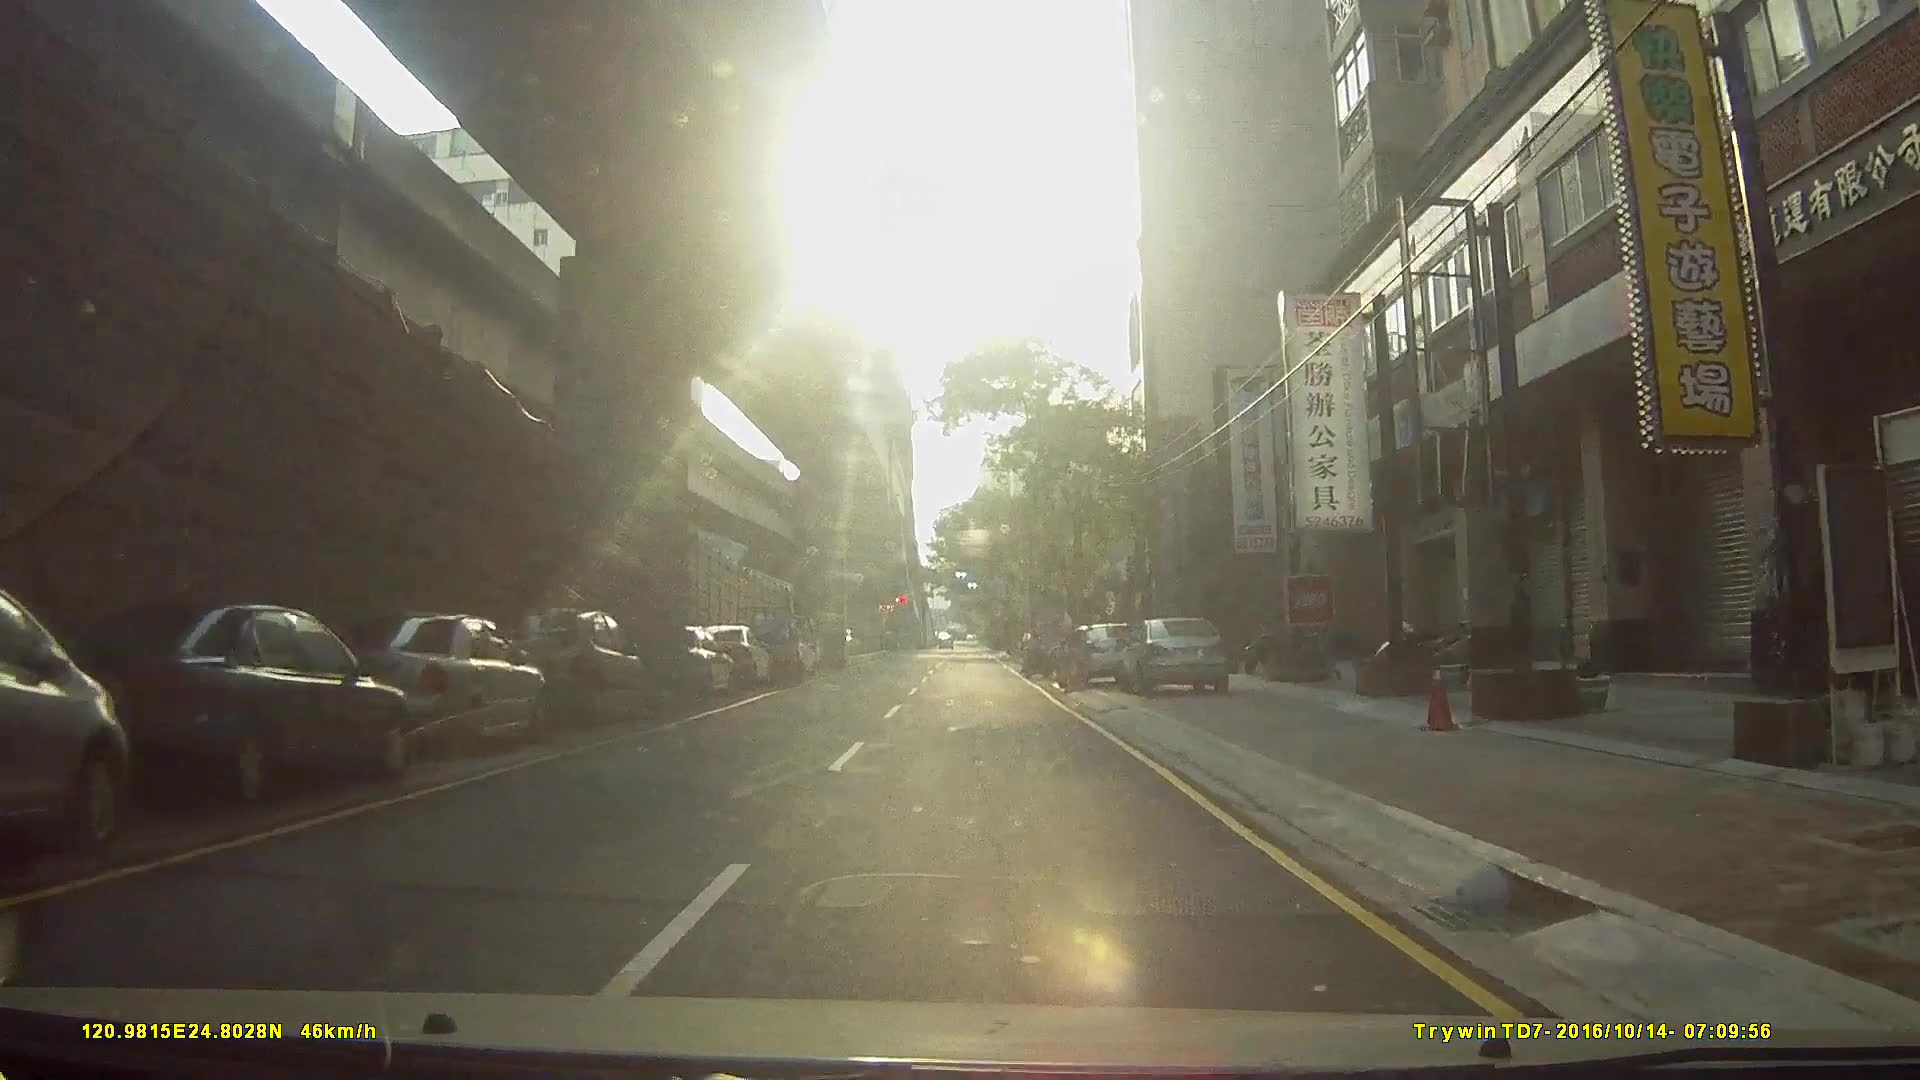rider: (1017, 623, 1052, 678)
vehicle: (31, 598, 394, 812), (1, 595, 140, 862), (320, 606, 541, 758), (478, 604, 645, 733), (1117, 613, 1232, 694), (1053, 618, 1139, 687), (686, 623, 768, 693), (729, 597, 798, 680)
